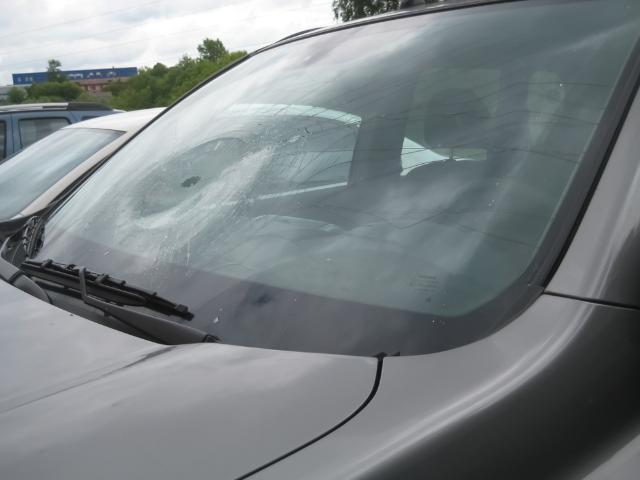glass shatter: (41, 0, 640, 356)
